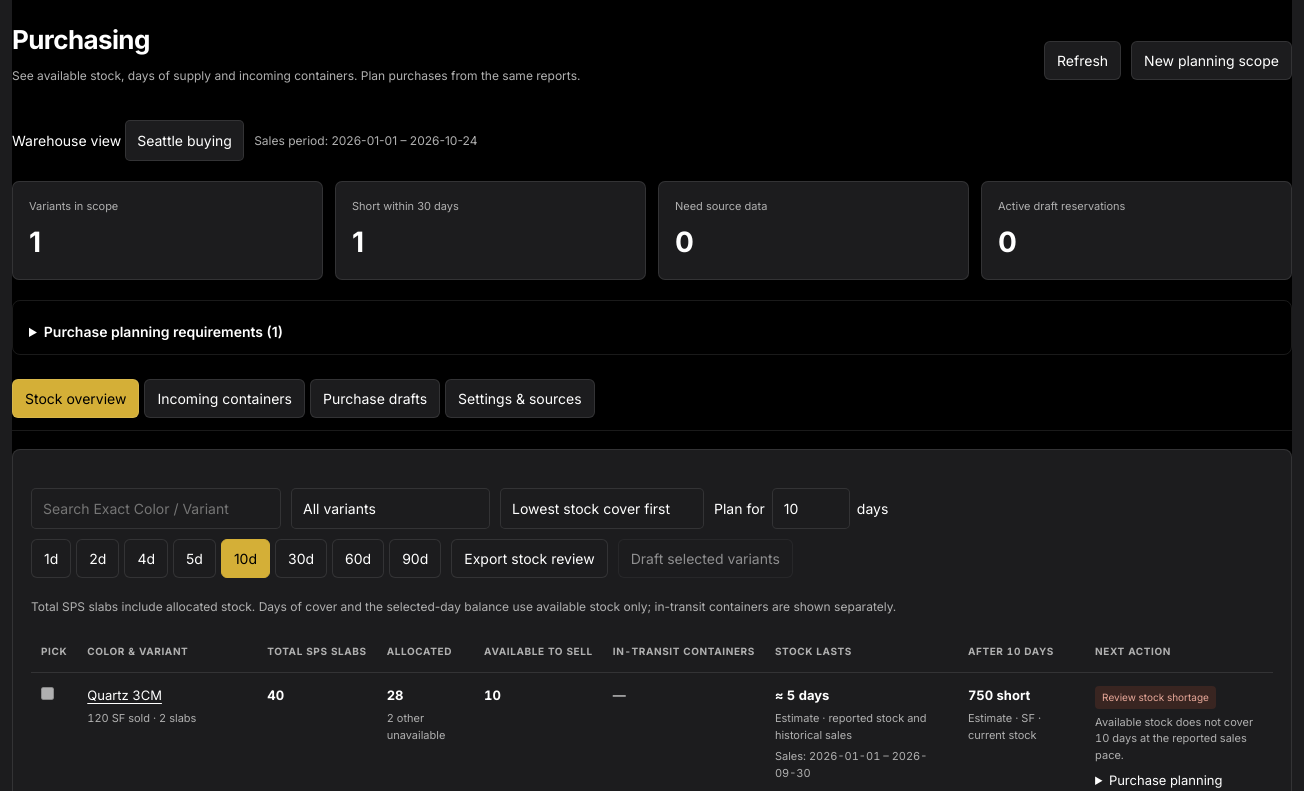
Test case: stock evaluation separated from purchase planning › shows source evaluation counts and a stock action even when supplier policies are absent
expect the text "Review stock shortage" is shown: met, box [1095, 686, 1216, 708]
Click the button "2d".
click(98, 558)  # box [76, 538, 119, 578]
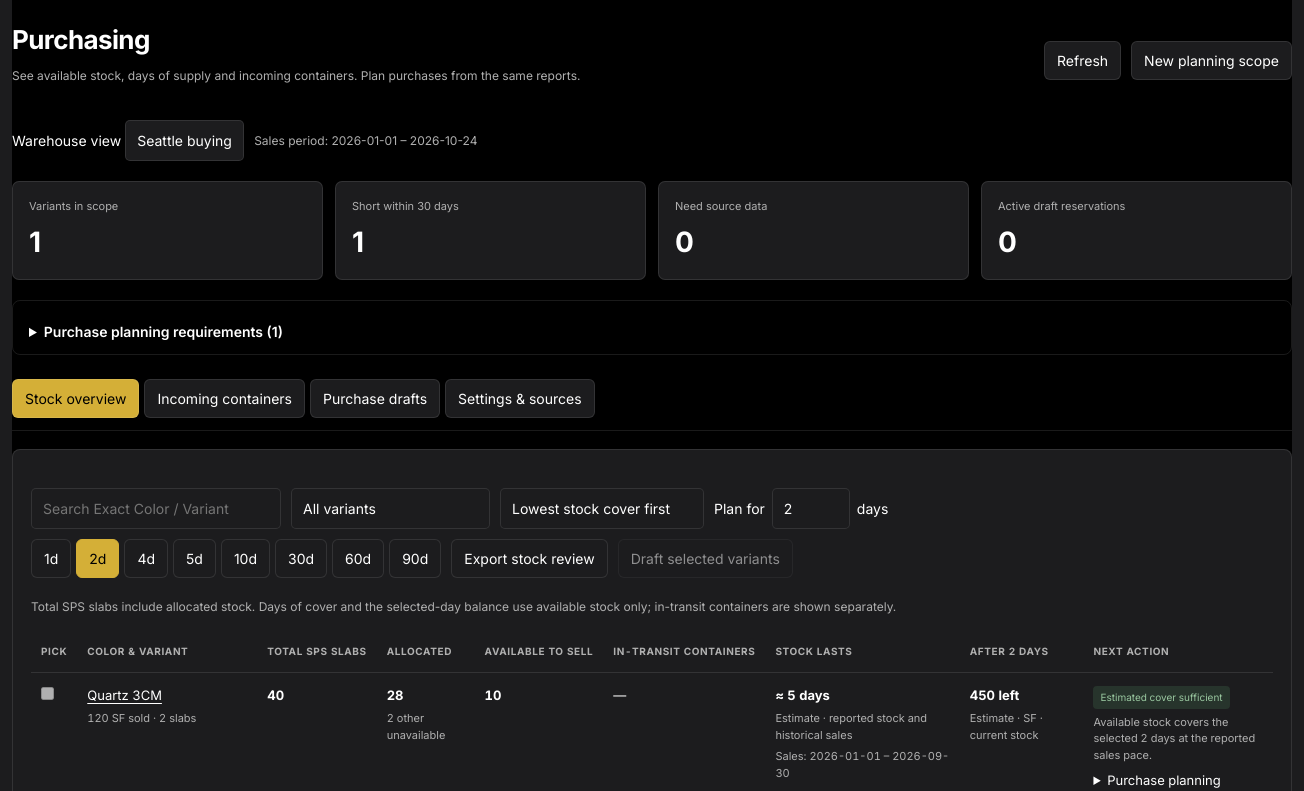
expect the checkbox named "Select Quartz 3CM" is disabled: met, box [41, 686, 54, 700]
expect the text "Estimated cover sufficient" is shown: met, box [1093, 686, 1230, 708]
